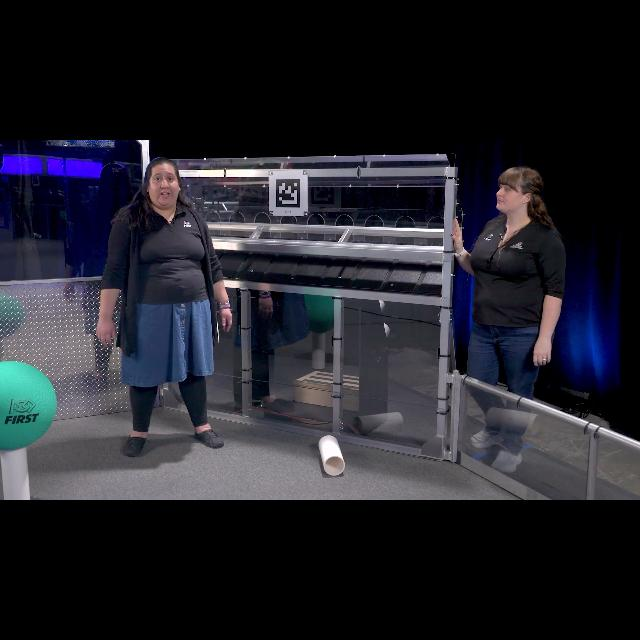ALGAE: (0, 362, 58, 451)
CORAL: (0, 448, 30, 500), (319, 436, 345, 476)
